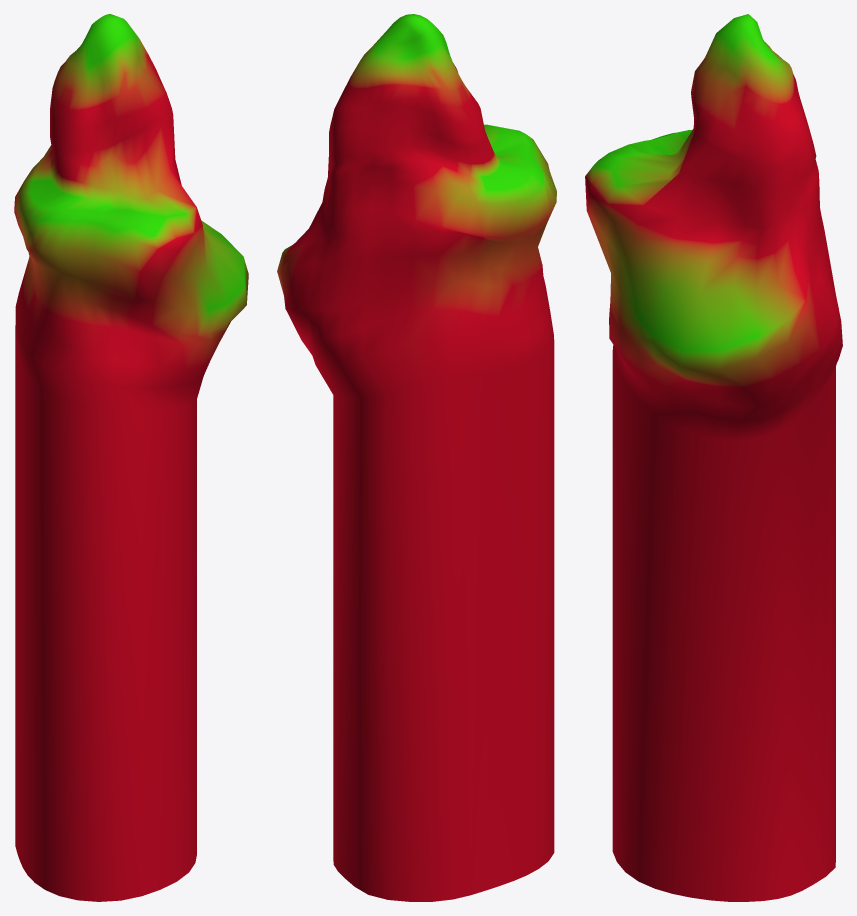
Rendered from AO Crag 2.fbx.
The picture shows the model from 3 angles, left to right: view 1: azimuth 30°, elevation 25°; view 2: azimuth 150°, elevation 25°; view 3: azimuth 270°, elevation 25°; orthographic projection. The views are drawn at different scales.
Visible parts, largest first — view 1: Crag 2; view 2: Crag 2; view 3: Crag 2.
Part boxes in pixels (x1,y1,x2,y2): Crag 2: [14, 14, 248, 901]; Crag 2: [277, 14, 556, 901]; Crag 2: [585, 14, 842, 901].
Size of the model in its own units: 6532 by 22104 by 6071.
